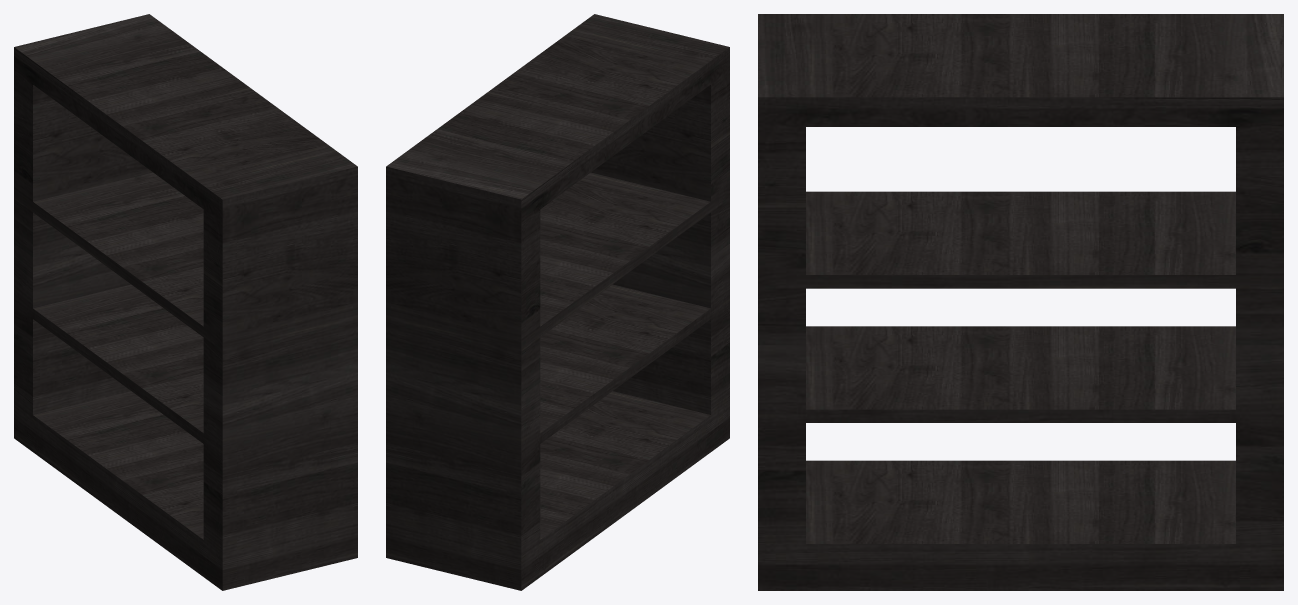
The model's file is shelf4.fbx.
3 renders of one model, left to right at view 1: azimuth 30°, elevation 25°; view 2: azimuth 150°, elevation 25°; view 3: azimuth 270°, elevation 25°, orthographic. The views are drawn at different scales.
Parts seen in each view (by area): view 1: Cube; view 2: Cube; view 3: Cube.
Boxes of the visible parts, box(x1,y1,x2,y2) form: Cube: box(14, 14, 357, 590); Cube: box(386, 14, 729, 590); Cube: box(758, 14, 1283, 590).
Bounding box in the file's own units: 300 × 829 × 800.
